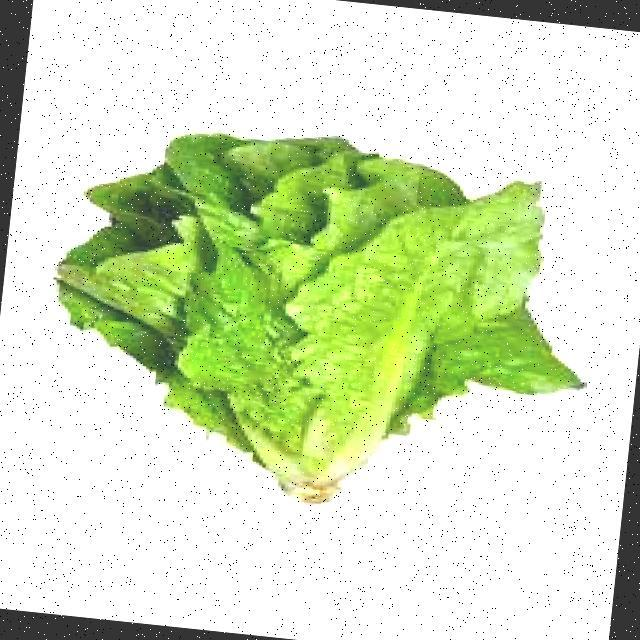Healthy: (161, 141, 467, 447)
